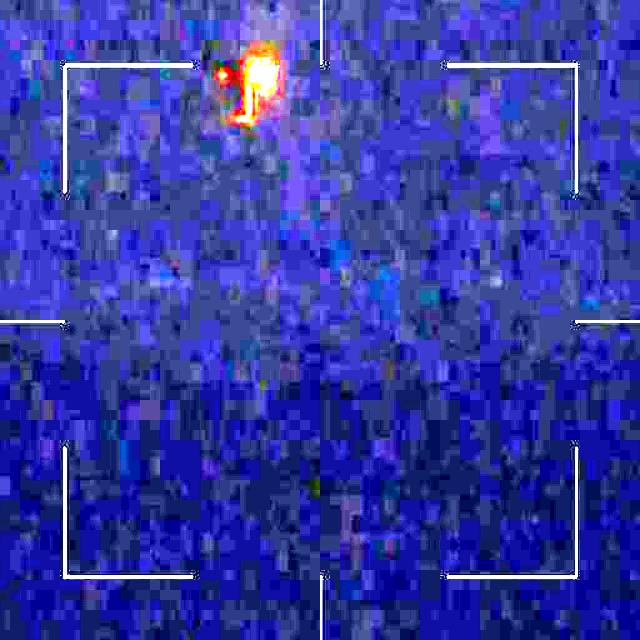bird: (206, 46, 282, 138)
